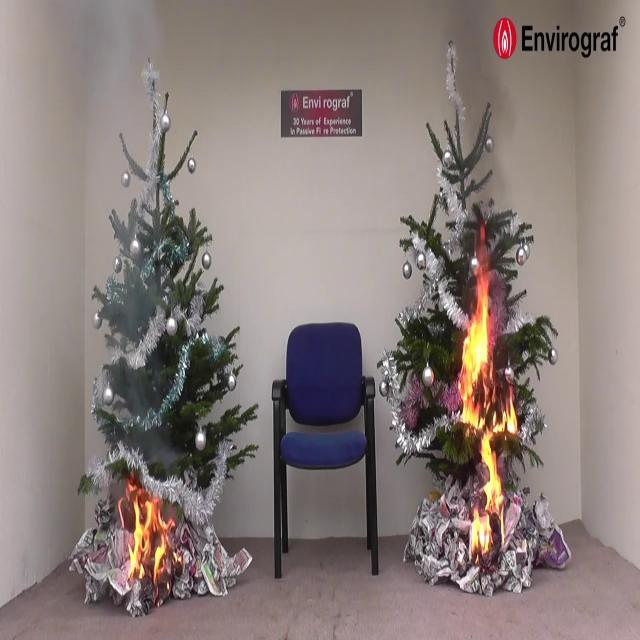Fire: (457, 259, 518, 553), (121, 486, 170, 589)
